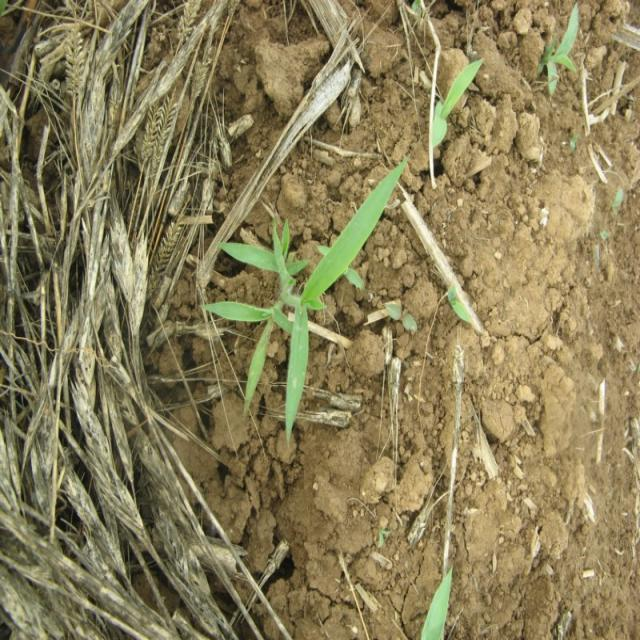bg: (206, 167, 405, 435)
